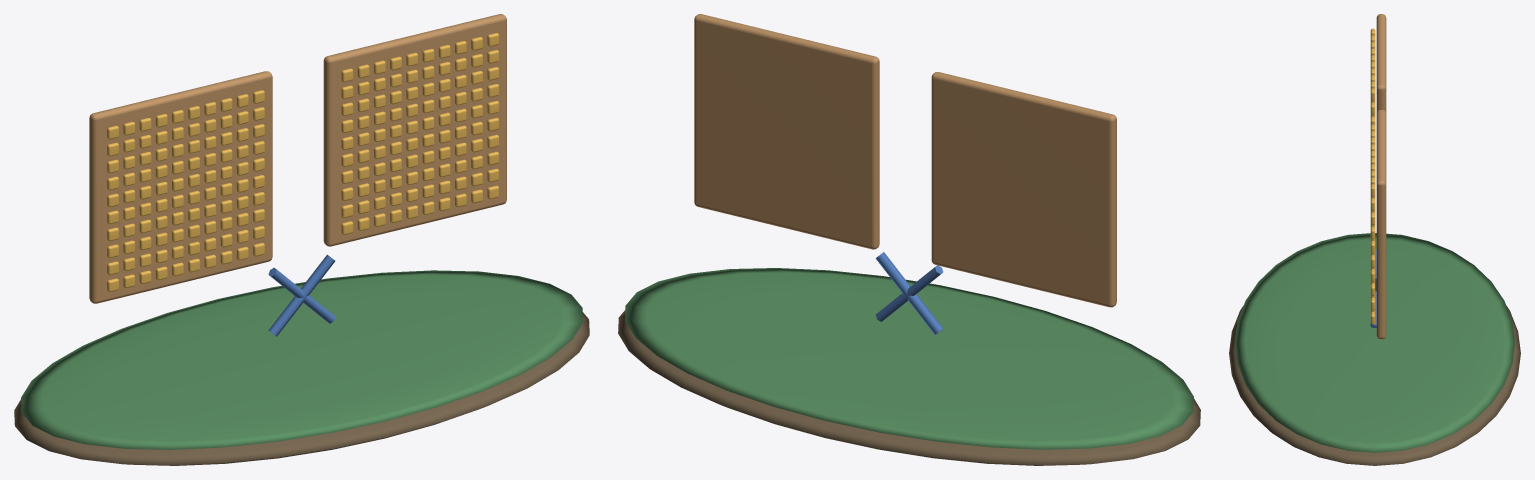
File: complete-first-ten-thousand-groups.glb
3 views of the same model, side by side, from view 1: azimuth 30°, elevation 25°; view 2: azimuth 150°, elevation 25°; view 3: azimuth 270°, elevation 25° (orthographic). The views are drawn at different scales.
Visible parts, largest first — view 1: complete-first-ten-thousand-groups_surface_01, complete-first-ten-thousand-groups_surface_02, complete-first-ten-thousand-groups_surface_03, complete-first-ten-thousand-groups_surface_00, complete-first-ten-thousand-groups_surface_04; view 2: complete-first-ten-thousand-groups_surface_02, complete-first-ten-thousand-groups_surface_01, complete-first-ten-thousand-groups_surface_00, complete-first-ten-thousand-groups_surface_04; view 3: complete-first-ten-thousand-groups_surface_01, complete-first-ten-thousand-groups_surface_00, complete-first-ten-thousand-groups_surface_02, complete-first-ten-thousand-groups_surface_03.
Part boxes in pixels (bbox=[...]): complete-first-ten-thousand-groups_surface_01: bbox=[21, 270, 582, 449]; complete-first-ten-thousand-groups_surface_02: bbox=[89, 14, 506, 303]; complete-first-ten-thousand-groups_surface_03: bbox=[107, 33, 499, 291]; complete-first-ten-thousand-groups_surface_00: bbox=[14, 312, 589, 465]; complete-first-ten-thousand-groups_surface_04: bbox=[268, 254, 335, 336]; complete-first-ten-thousand-groups_surface_02: bbox=[694, 14, 1116, 307]; complete-first-ten-thousand-groups_surface_01: bbox=[625, 268, 1193, 449]; complete-first-ten-thousand-groups_surface_00: bbox=[618, 310, 1200, 465]; complete-first-ten-thousand-groups_surface_04: bbox=[875, 252, 943, 334]; complete-first-ten-thousand-groups_surface_01: bbox=[1235, 233, 1514, 452]; complete-first-ten-thousand-groups_surface_00: bbox=[1229, 306, 1520, 465]; complete-first-ten-thousand-groups_surface_02: bbox=[1376, 14, 1386, 339]; complete-first-ten-thousand-groups_surface_03: bbox=[1370, 28, 1375, 324].
Size of the model in its own units: 4.56 by 2.55 by 2.5.
